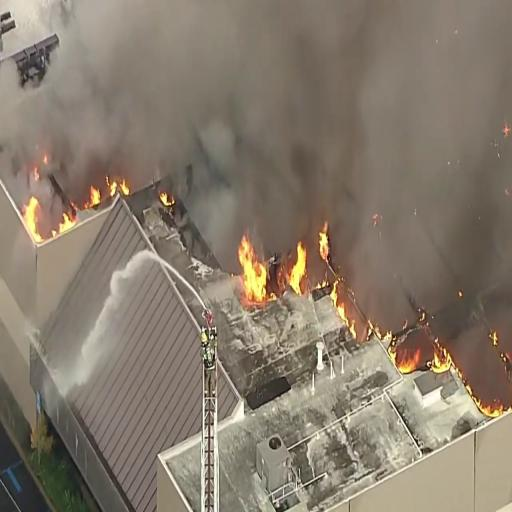fire: (237, 238, 309, 320)
smoke: (161, 0, 465, 172)
